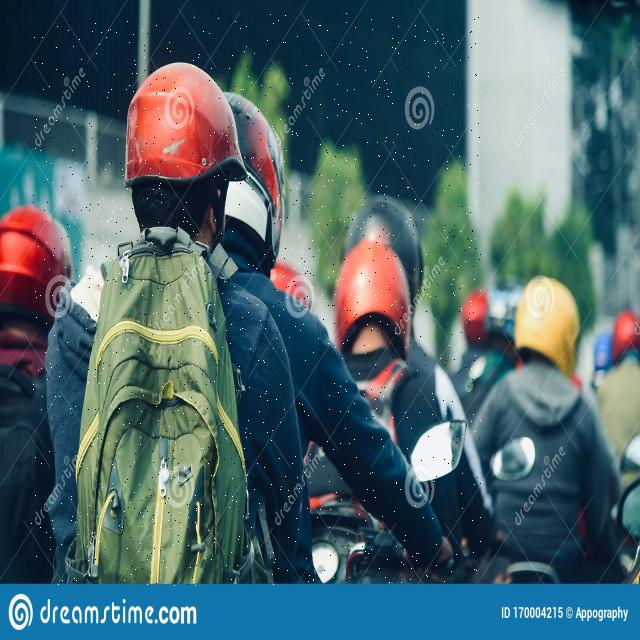With Helmet: (31, 10, 481, 586)
